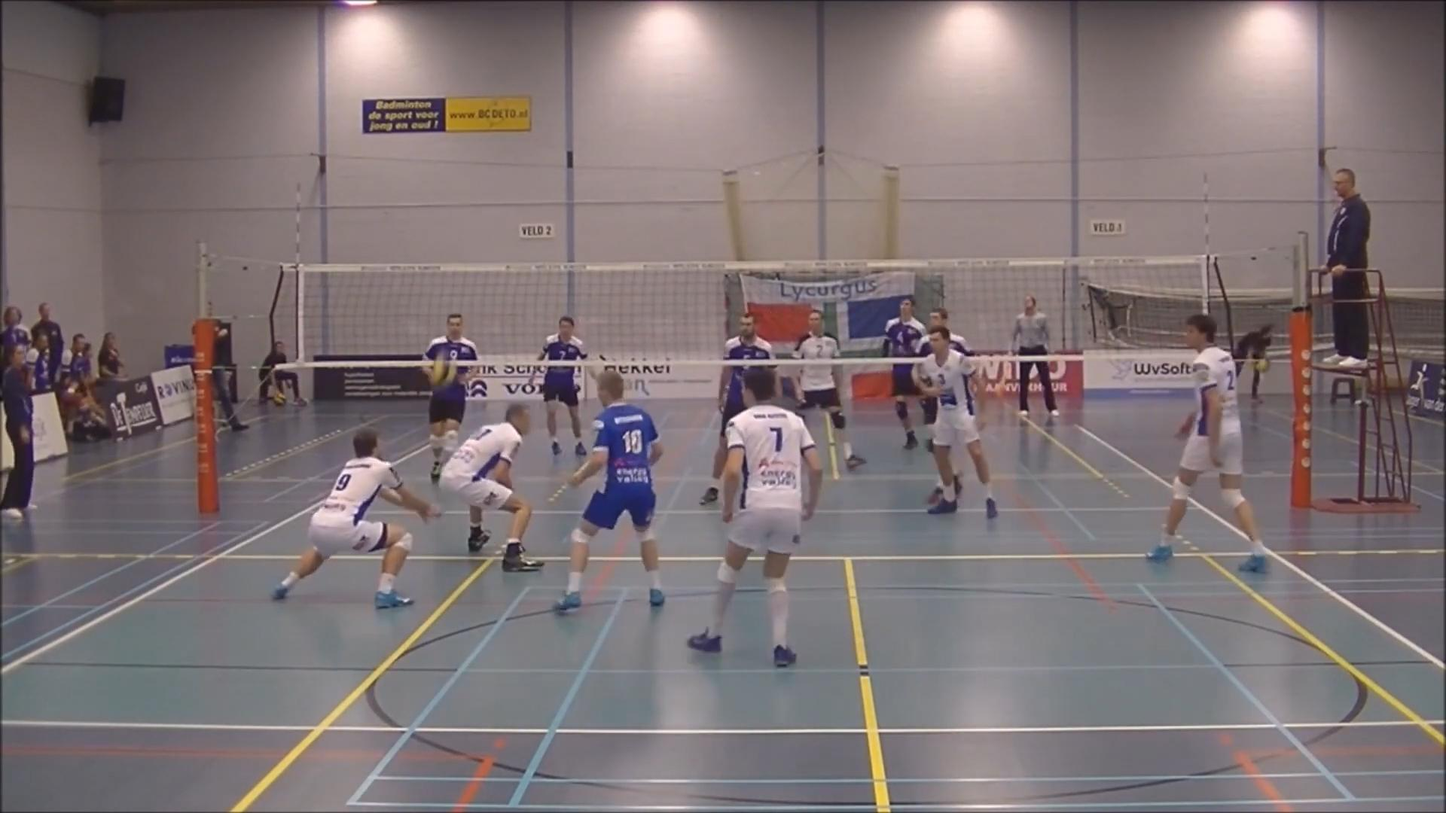ricezione: (272, 426, 440, 610)
